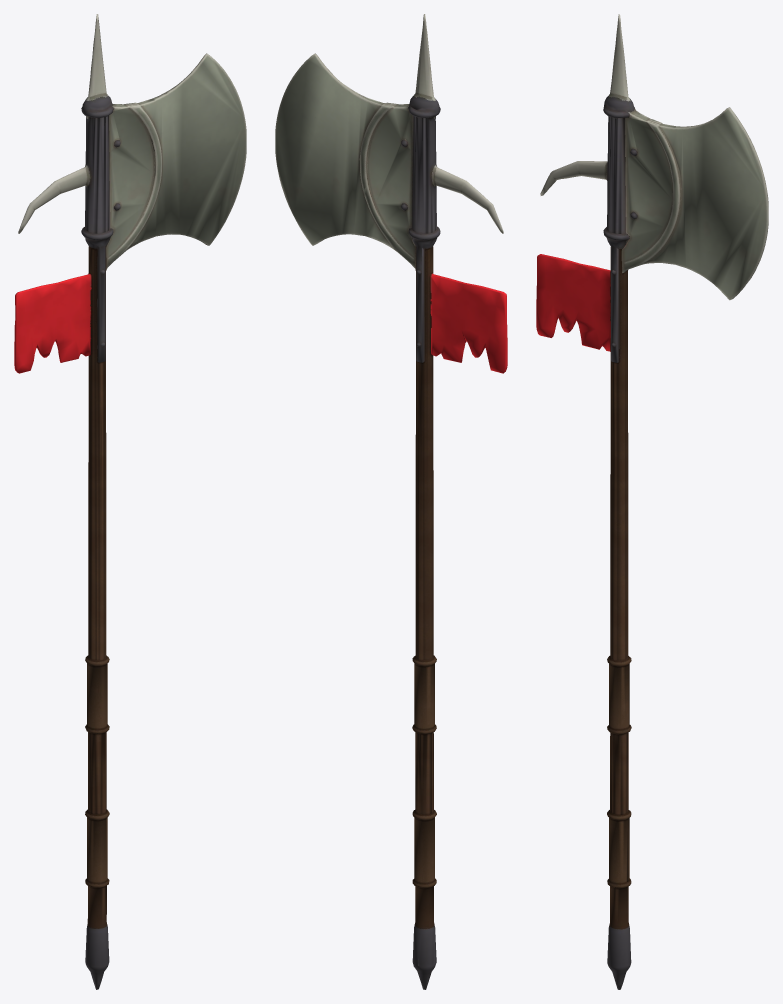
Rendered from weapon_halberd_red.glb.
3 views of the same model, side by side, from view 1: azimuth 30°, elevation 25°; view 2: azimuth 150°, elevation 25°; view 3: azimuth 330°, elevation 25° (orthographic).
Parts seen in each view (by area): view 1: weapon_halberd_red; view 2: weapon_halberd_red; view 3: weapon_halberd_red.
Part boxes in pixels (x1,y1,x2,y2): weapon_halberd_red: (14,14,246,989); weapon_halberd_red: (275,14,507,989); weapon_halberd_red: (536,14,768,989).
Size of the model in its own units: 0.5358 by 2.15 by 0.0636.
1 material, 1 textured.
